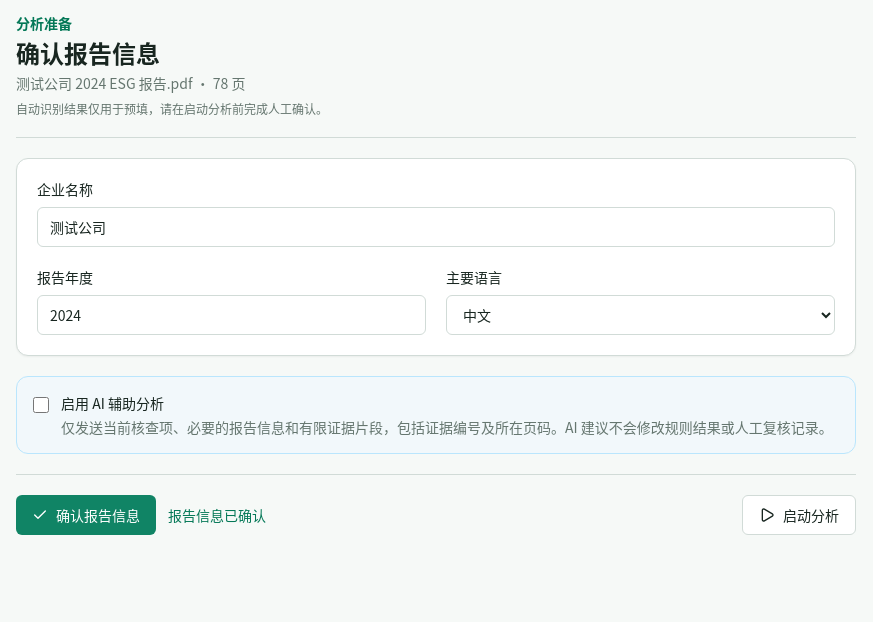
Scenario: ReportMetadataConfirmation › opens the active run when the backend rejects a concurrent start
The image size is (873, 622).
Step 1. Click the button "启动分析" → click(799, 515), box [742,495,856,535]
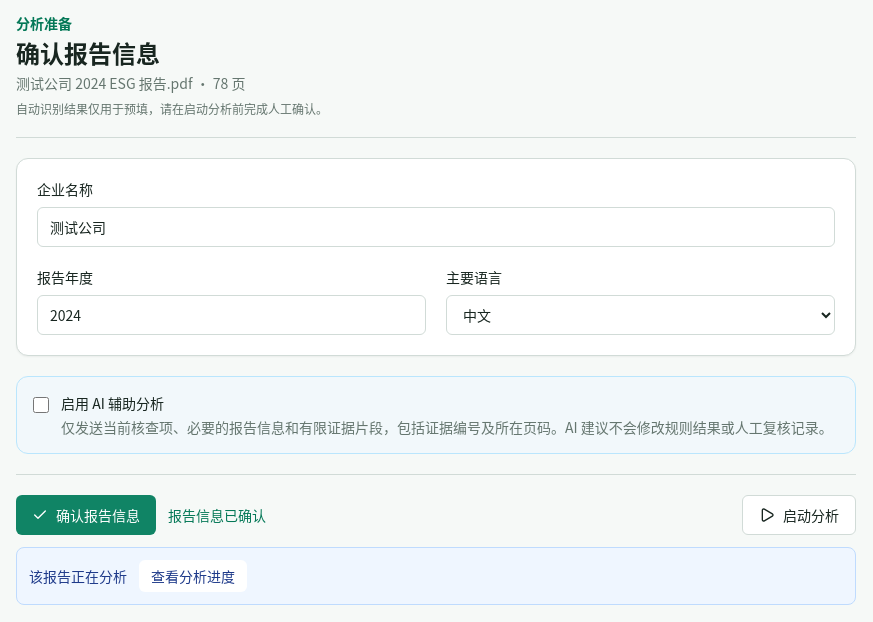
Now the text "该报告正在分析" is shown, box [29,566,127,586]
